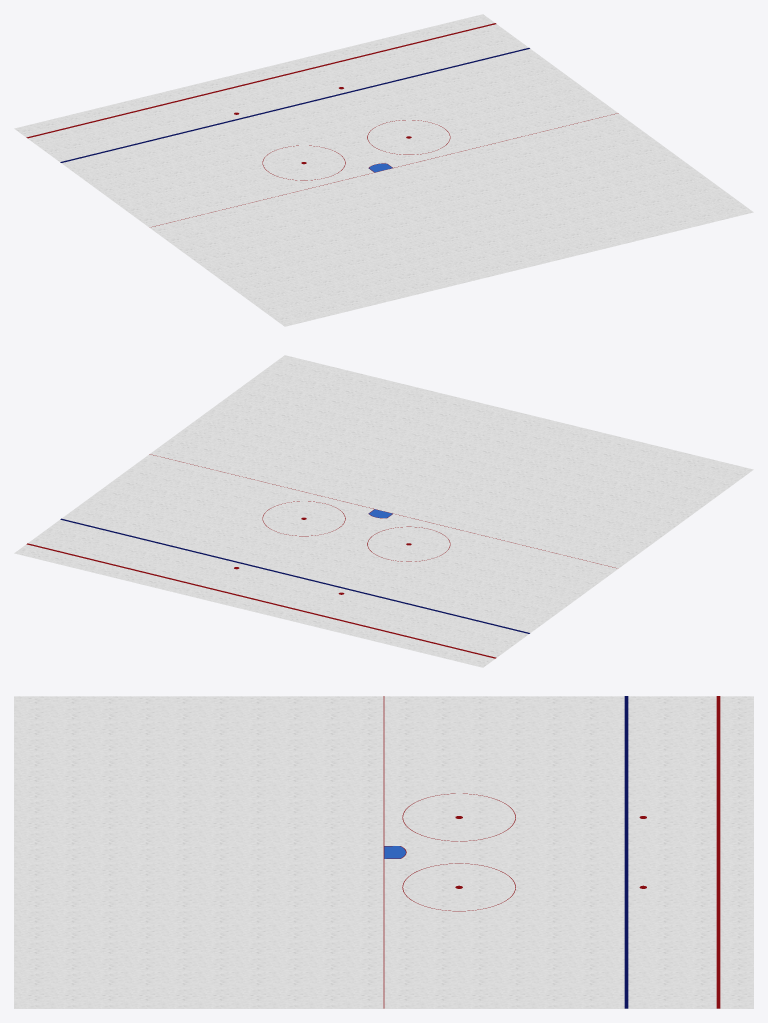
The model's file is ice.obj.
3 renders of one model, top to bottom at view 1: azimuth 30°, elevation 25°; view 2: azimuth 150°, elevation 25°; view 3: azimuth 270°, elevation 25°, orthographic. The views are drawn at different scales.
Visible parts, largest first — view 1: Ice, BlueLine, CentreLine; view 2: Ice, CentreLine, BlueLine; view 3: Ice, BlueLine, CentreLine, GoalLine.
Part boxes in pixels (x1,y1,x2,y2): Ice: (14, 14, 753, 326); BlueLine: (60, 48, 529, 162); CentreLine: (26, 23, 496, 138); Ice: (14, 355, 753, 667); CentreLine: (26, 543, 496, 658); BlueLine: (60, 518, 529, 633); Ice: (14, 696, 753, 1008); BlueLine: (624, 696, 628, 1008); CentreLine: (716, 696, 720, 1008); GoalLine: (383, 696, 384, 1008).
Bounding box in the file's own units: 60 × 0.012 × 60.
4 materials, 1 textured.
